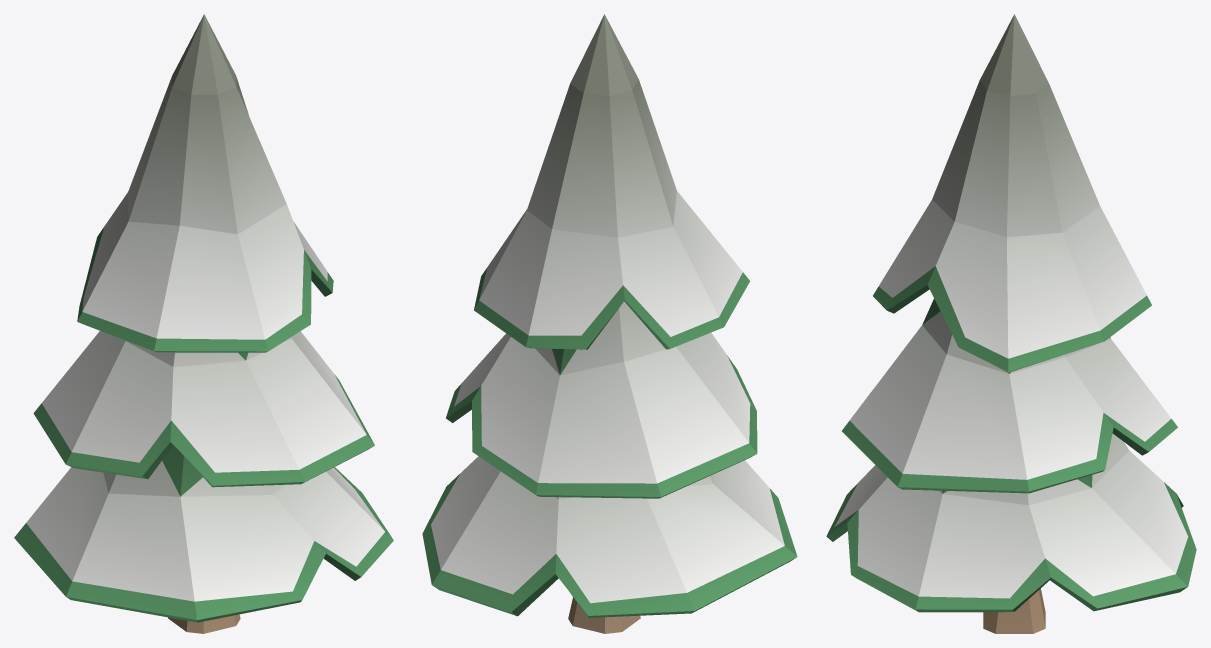
Rendered from SnowPine2.fbx.
3 renders of one model, left to right at view 1: azimuth 30°, elevation 25°; view 2: azimuth 150°, elevation 25°; view 3: azimuth 270°, elevation 25°, orthographic.
Parts seen in each view (by area): view 1: SnowPine2; view 2: SnowPine2; view 3: SnowPine2.
Boxes of the visible parts, bbox=[...] form: SnowPine2: bbox=[14, 14, 393, 633]; SnowPine2: bbox=[422, 14, 797, 633]; SnowPine2: bbox=[826, 14, 1196, 633].
Size of the model in its own units: 432 by 773 by 428.
